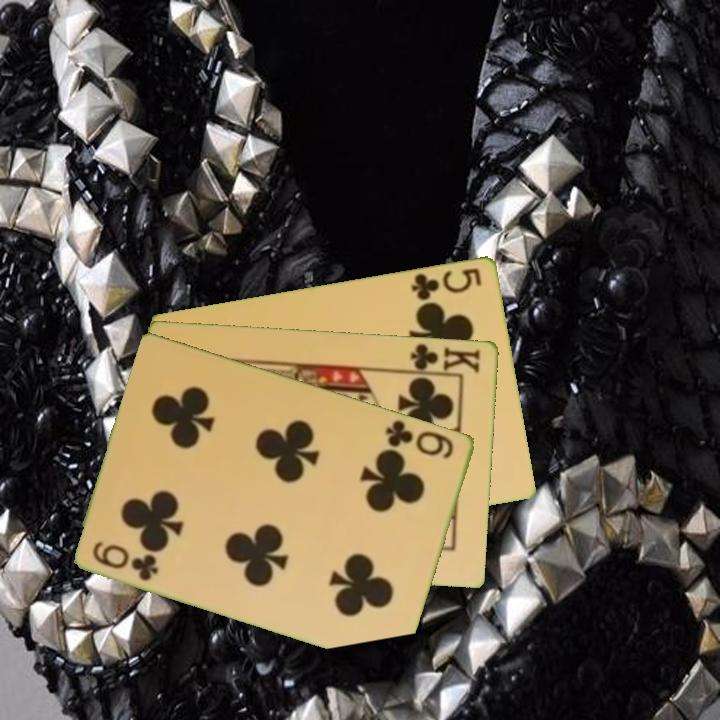5c: (408, 263, 485, 303)
6c: (89, 537, 162, 584), (383, 416, 457, 462)
Kc: (403, 339, 483, 377)
